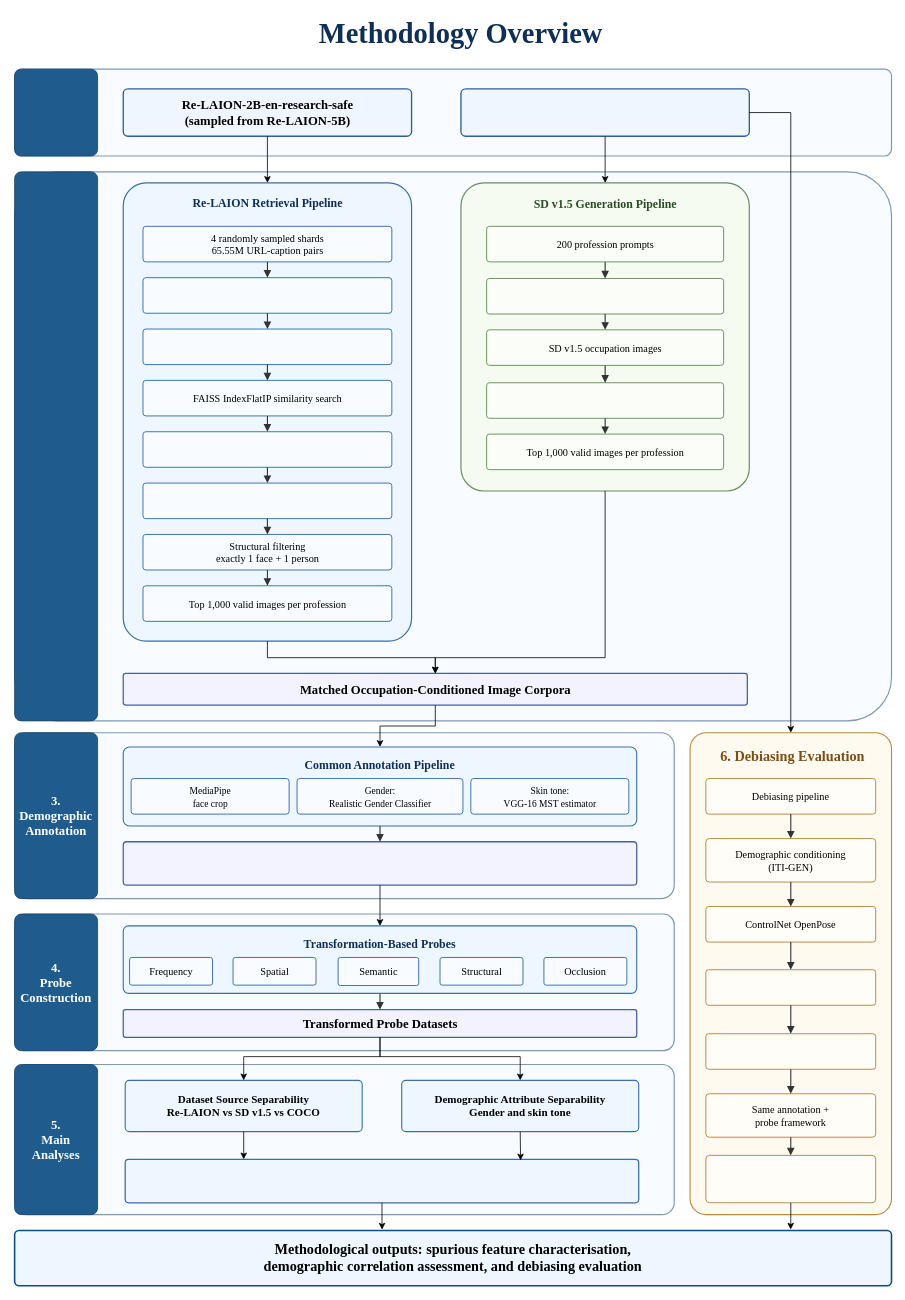
Some shapes in this 905 by 1300 pixel diagram are drawn without their labels. Here are the shapes that lost their labels. From the top down, the centre of each, then its label:
pixel 56 112: 1. Data Sources
pixel 605 112: Stable Diffusion v1.5
pixel 267 295: URL retrieval + validity filtering 43.49M valid images
pixel 605 296: Generation with SD v1.5 + LCM-LoRA Guidance Scale s = 1.0
pixel 267 346: CLIP ViT-L/14 embedding extraction
pixel 605 400: Structural validation exactly 1 face + 1 person
pixel 56 446: 2. Dataset Construction
pixel 267 449: 200 profession prompts "A photo of a/an {profession}"
pixel 267 500: Negative prompt dominance filtering
pixel 379 863: Annotated Datasets Gender + Skin Tone + Occupation
pixel 790 987: Chamfer colour alignment
pixel 790 1051: Debiased doctor subset
pixel 381 1180: Evaluation mMtrics Accuracy, AUC, Distributional Analysis
pixel 790 1179: Comparison with standard SD v1.5 baseline
